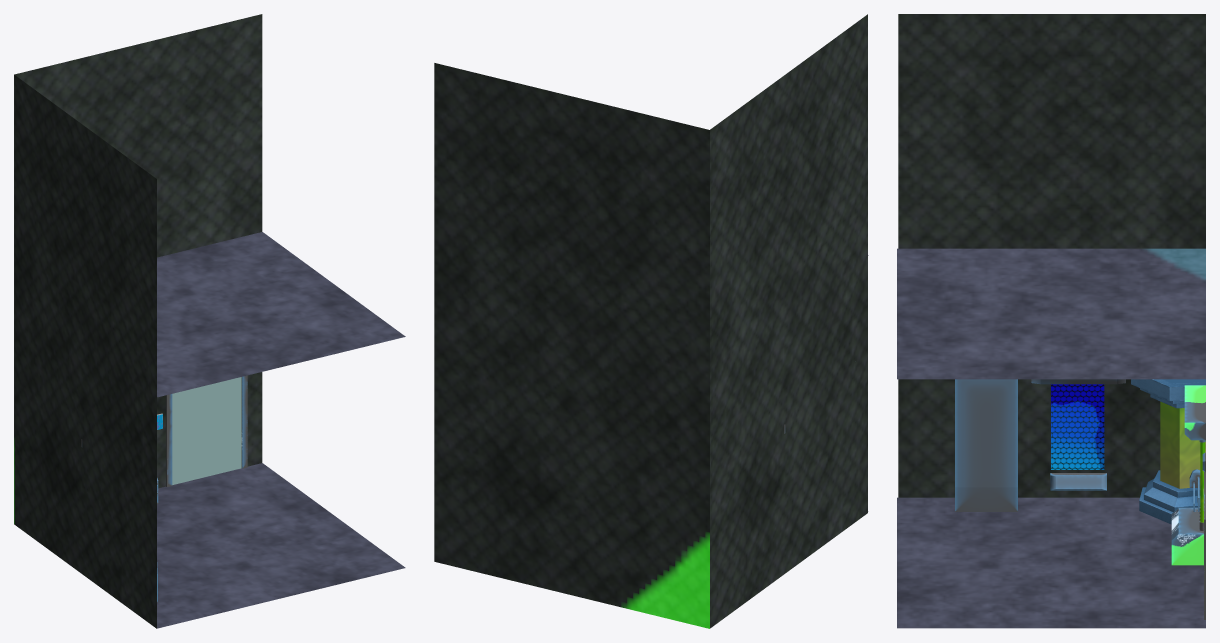
File: LAB (4).fbx
3 views of the same model, side by side, from view 1: azimuth 30°, elevation 25°; view 2: azimuth 150°, elevation 25°; view 3: azimuth 270°, elevation 25° (orthographic). The views are drawn at different scales.
Visible parts, largest first — view 1: pPlane3, pPlane2, pPlane16, pPlane1, pCube8; view 2: pPlane2, pPlane3; view 3: pPlane3, pPlane16, pPlane1, pCube27, Capsula, pPlane5, pCube6, pCube11, pCube7, pCube1.
Part boxes in pixels (bbox=[...]): pPlane3: bbox=[14, 75, 156, 628]; pPlane2: bbox=[14, 14, 262, 523]; pPlane16: bbox=[157, 232, 405, 397]; pPlane1: bbox=[157, 463, 405, 628]; pCube8: bbox=[166, 375, 247, 486]; pPlane2: bbox=[434, 63, 709, 628]; pPlane3: bbox=[710, 14, 867, 628]; pPlane3: bbox=[898, 14, 1205, 497]; pPlane16: bbox=[897, 248, 1205, 379]; pPlane1: bbox=[897, 497, 1205, 628]; pCube27: bbox=[955, 379, 1017, 511]; Capsula: bbox=[1131, 379, 1205, 524]; pPlane5: bbox=[1051, 384, 1104, 469]; pCube6: bbox=[1171, 507, 1203, 565]; pCube11: bbox=[1184, 385, 1205, 440]; pCube7: bbox=[1050, 473, 1106, 490]; pCube1: bbox=[1031, 379, 1125, 384].
Size of the model in its own units: 39.1 by 67.63 by 39.08.
